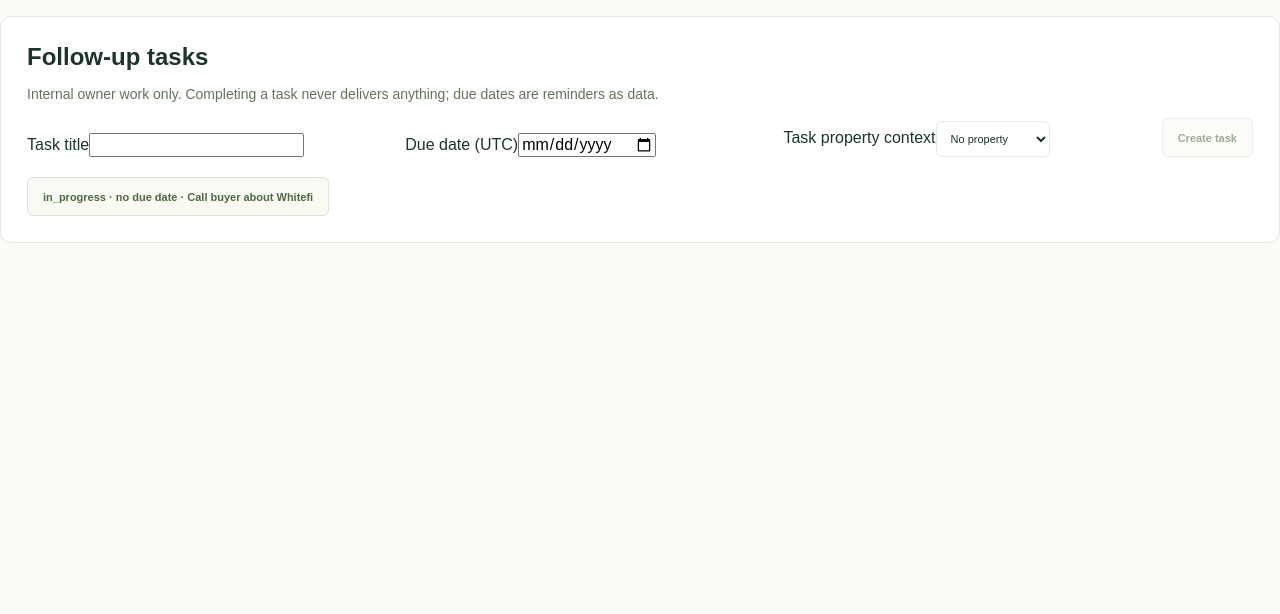
Test: renders legacy history snapshots without new fields
Click the button "in_progress · no due date · Call buyer about Whitefi". click: (178, 197)
box: [27, 177, 329, 216]
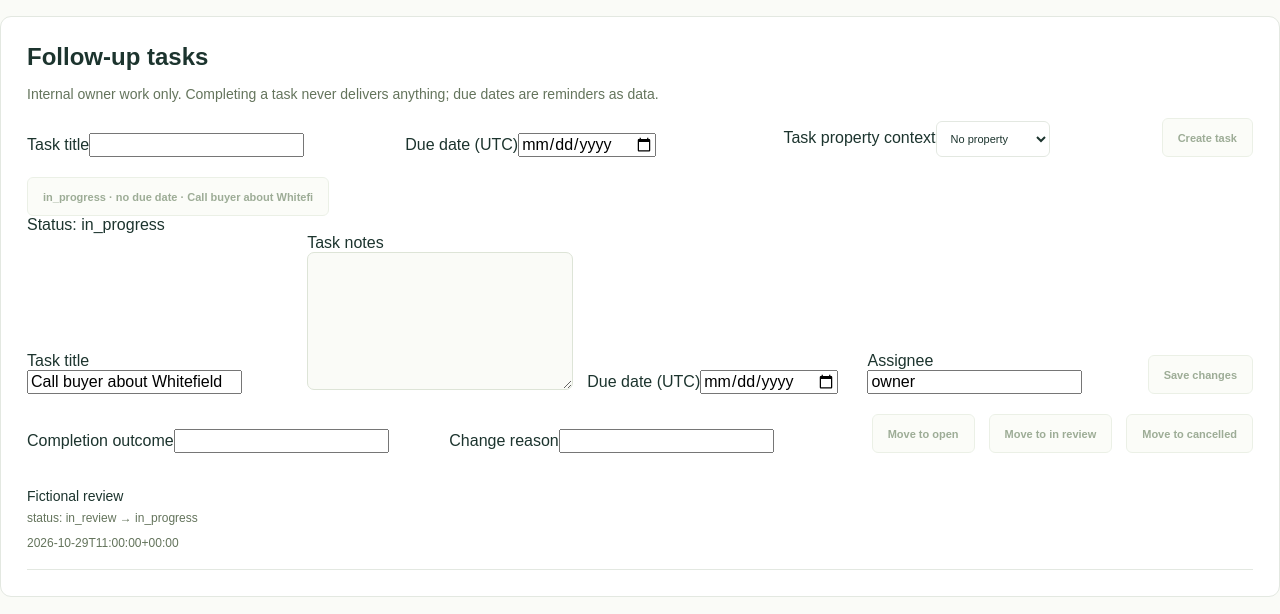
Now the text "Fictional review" is shown, box [27, 488, 124, 504]
Now the text "status: in_review → in_progress" is shown, box [27, 511, 198, 525]
